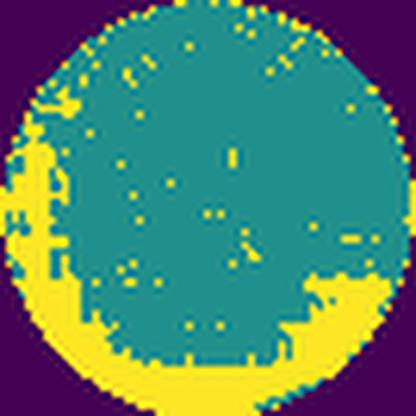Edge-Loc: (0, 88, 402, 416)
